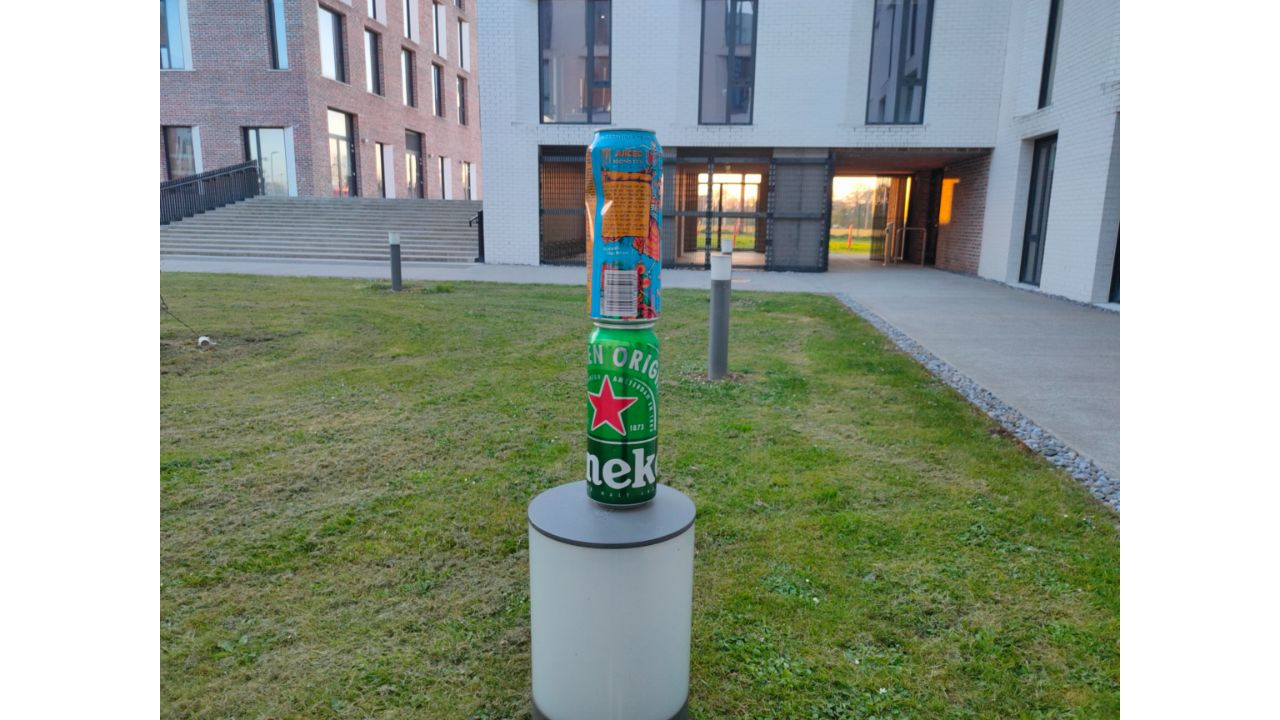Can: (584, 128, 665, 324), (586, 328, 660, 508)
